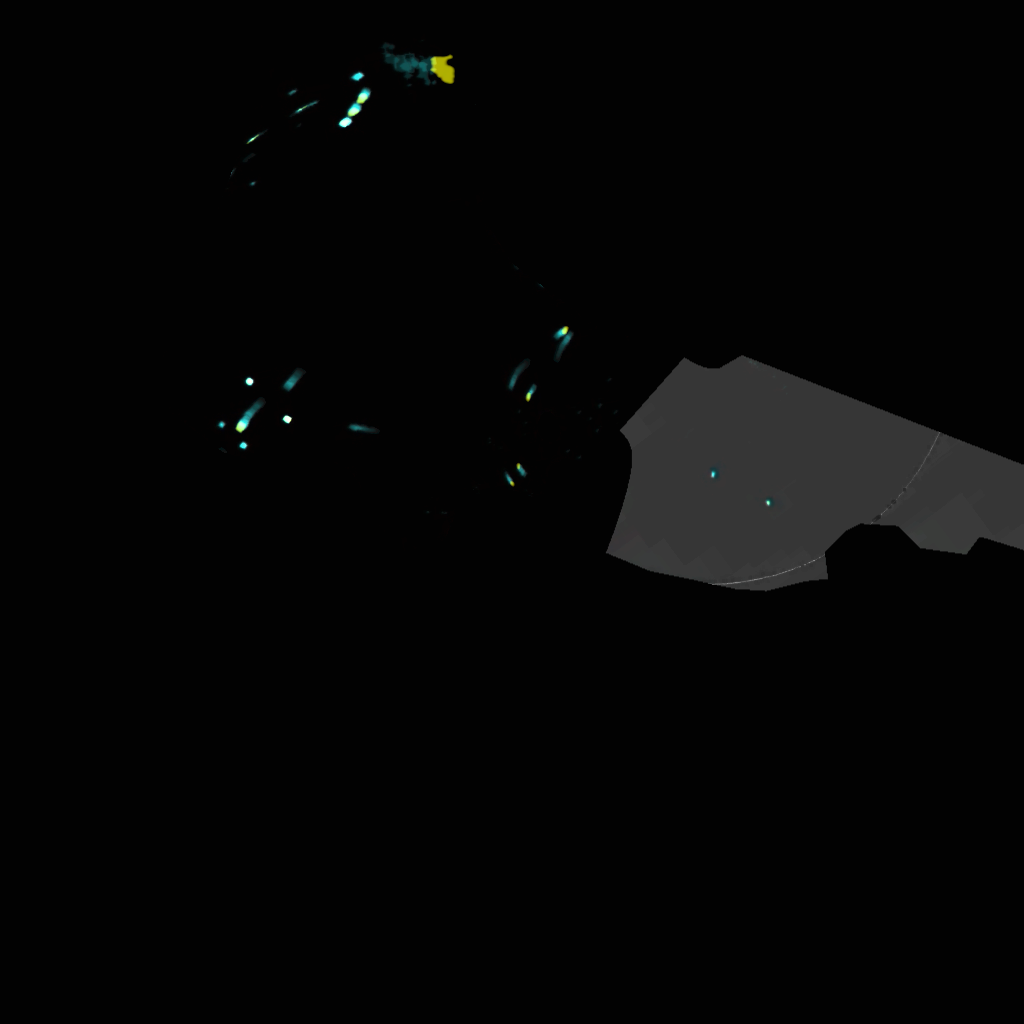B: (237, 405, 250, 433), (524, 385, 538, 404), (502, 471, 517, 488), (358, 87, 372, 105), (511, 462, 528, 475), (555, 325, 569, 338), (350, 103, 362, 117)
